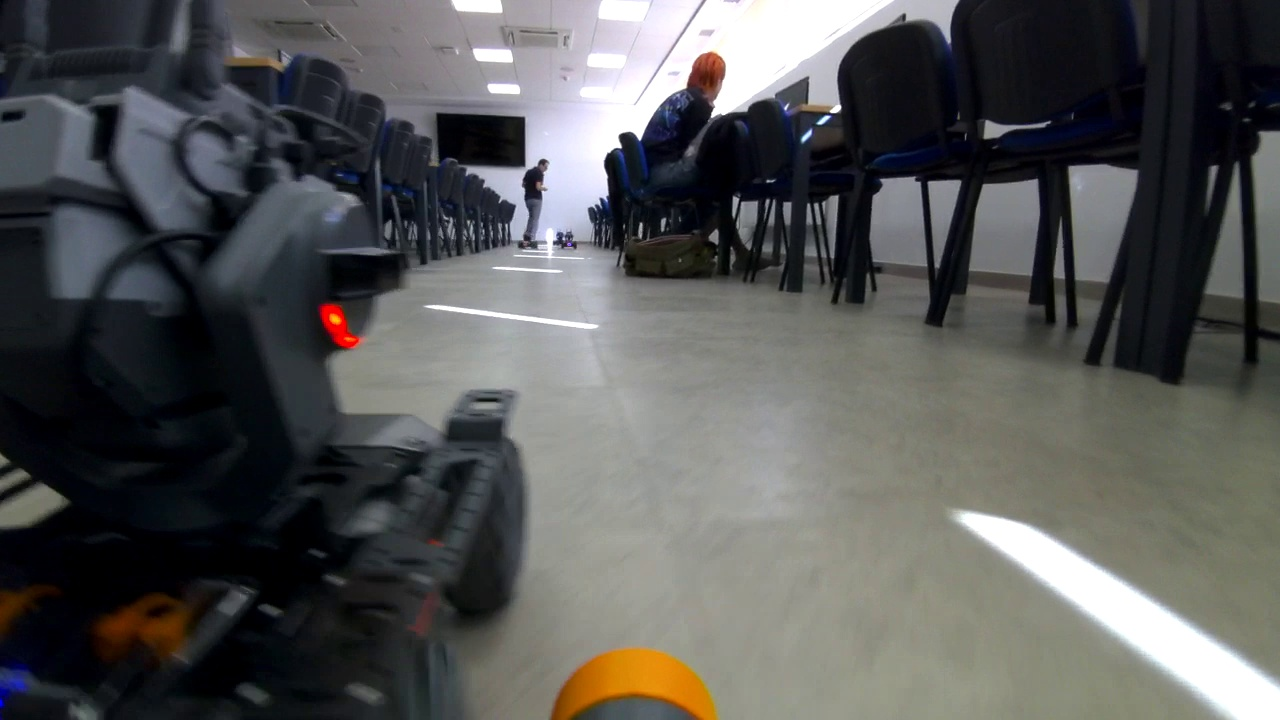robot: (1, 28, 520, 705)
